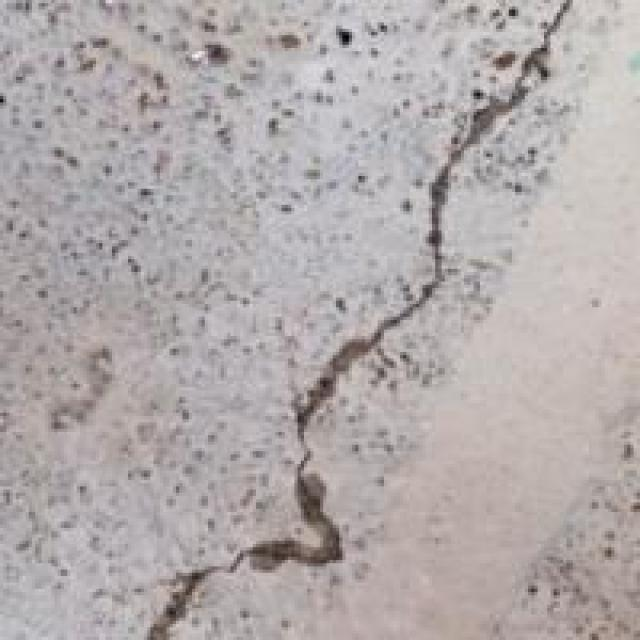crack: (137, 45, 554, 637)
